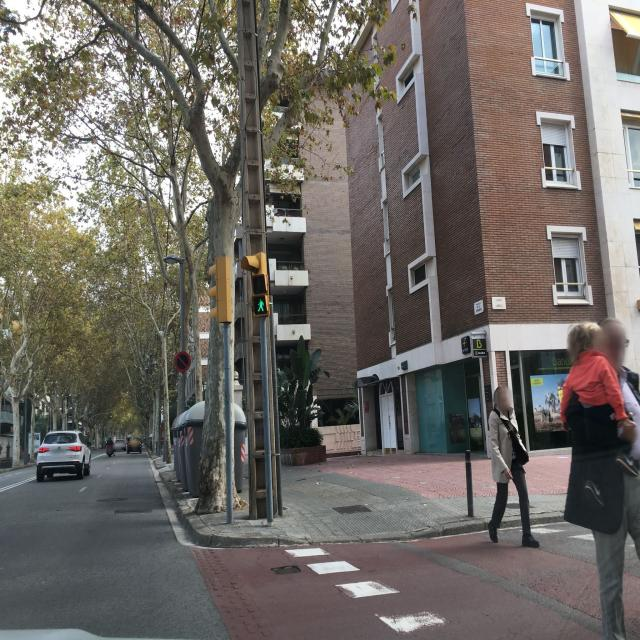bike: (106, 443, 114, 457)
car: (36, 430, 91, 480), (126, 435, 142, 454), (115, 438, 126, 451)
